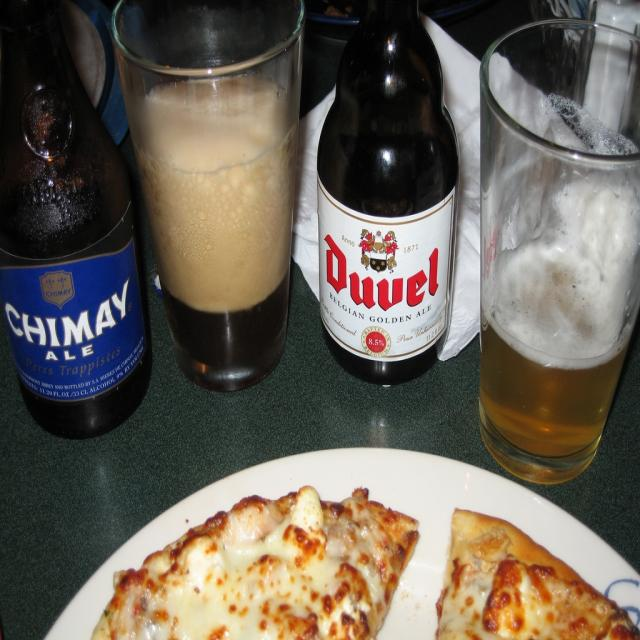chimay: (2, 240, 147, 401)
